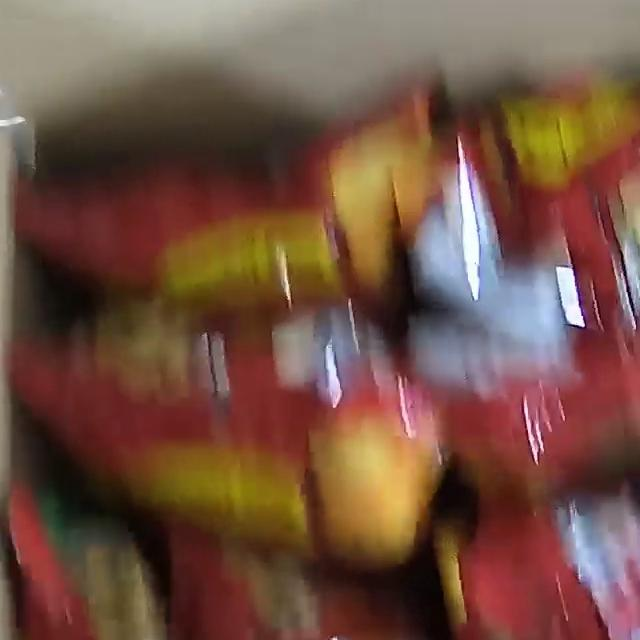masala: (1, 59, 640, 640)
